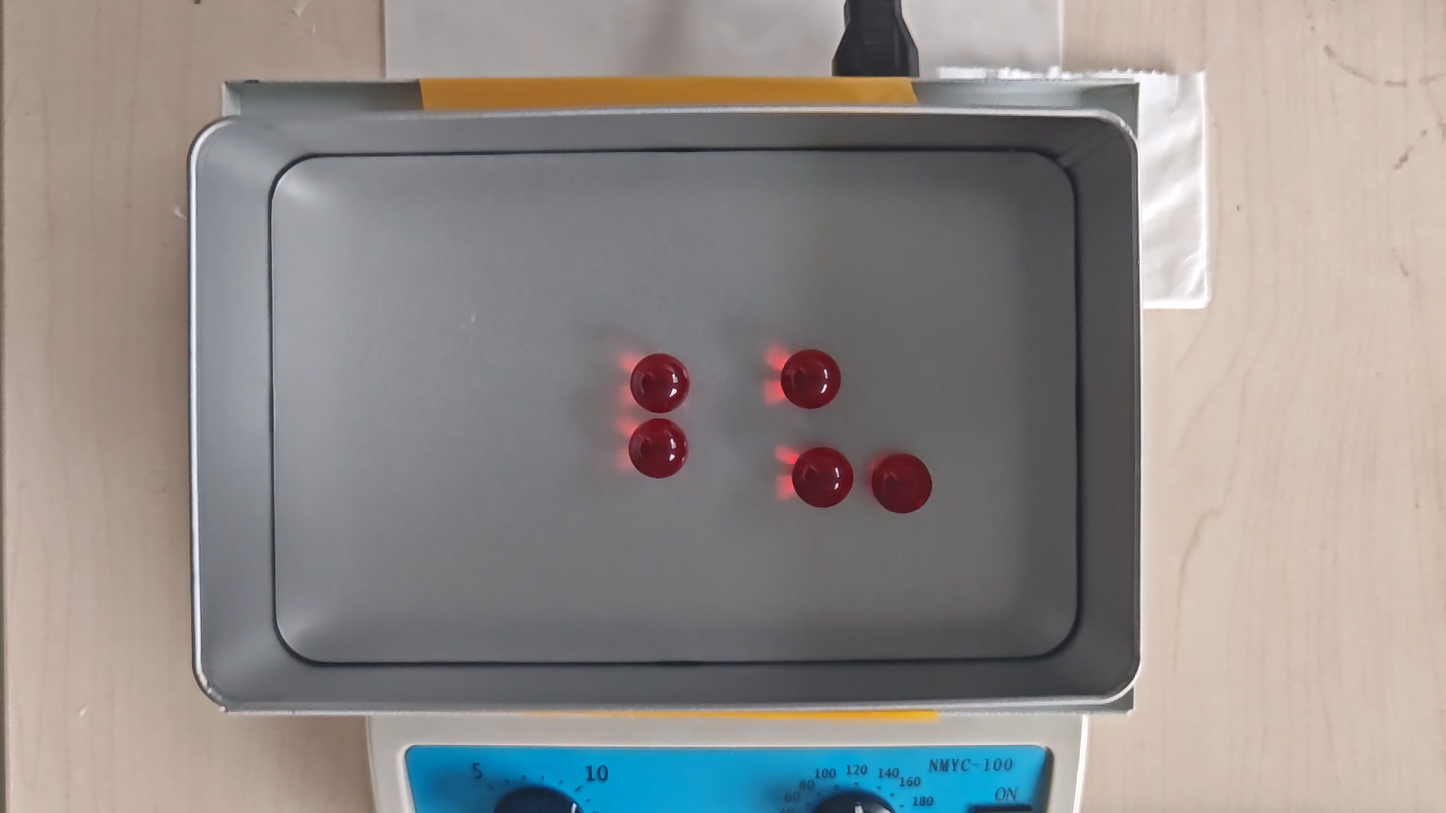ball: (629, 352, 693, 416), (779, 348, 845, 410), (792, 447, 853, 510), (871, 454, 933, 515), (629, 418, 690, 478)
container: (265, 148, 1081, 668)
